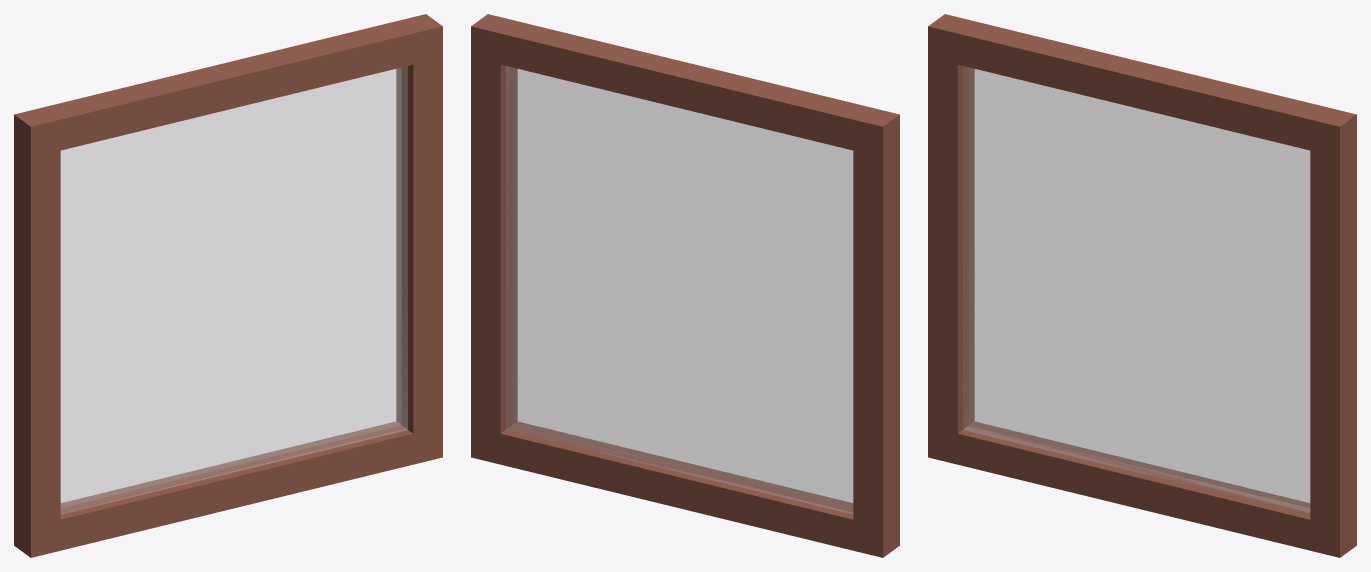
Rendered from single_window1.fbx.
The picture shows the model from 3 angles, left to right: view 1: azimuth 30°, elevation 25°; view 2: azimuth 150°, elevation 25°; view 3: azimuth 330°, elevation 25°; orthographic projection.
Visible parts, largest first — view 1: Cube.001, Cube; view 2: Cube.001, Cube; view 3: Cube.001, Cube.
Part boxes in pixels (bbox=[...]): Cube.001: bbox=[60, 66, 407, 514]; Cube: bbox=[14, 14, 442, 557]; Cube.001: bbox=[506, 66, 853, 514]; Cube: bbox=[471, 14, 899, 557]; Cube.001: bbox=[963, 66, 1310, 513]; Cube: bbox=[928, 14, 1356, 557].
Bounding box in the file's own units: 100 × 100 × 7.09.
